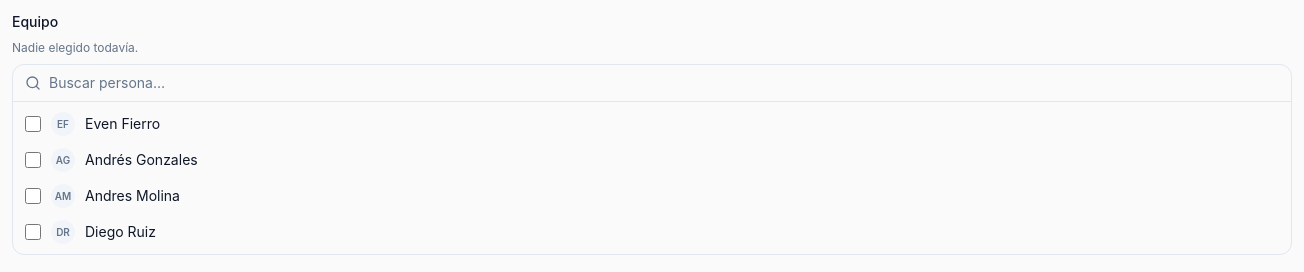
Test: SelectorEquipo › busca por nombre sin importar tildes ni mayúsculas
The image size is (1304, 272).
Type "ANDRES" into the search field labelled "Buscar persona". click: (652, 83)
box: [13,65,1291,101]
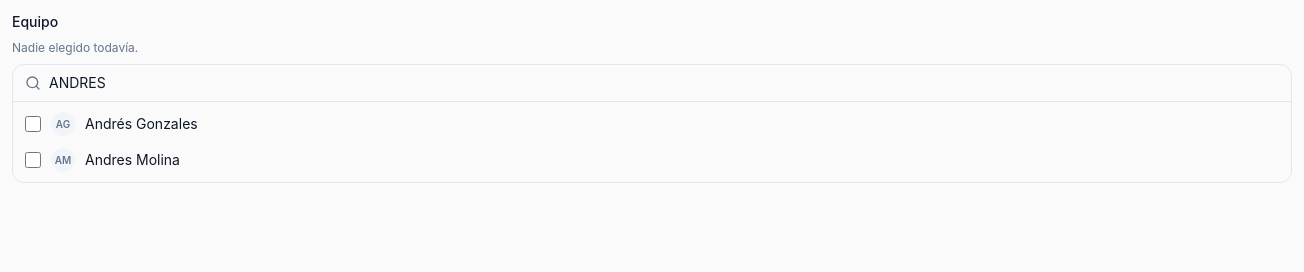
Expected: the checkbox labelled "Andrés Gonzales" is shown, [25,116,41,132]
Now the label "Diego Ruiz" is gone
